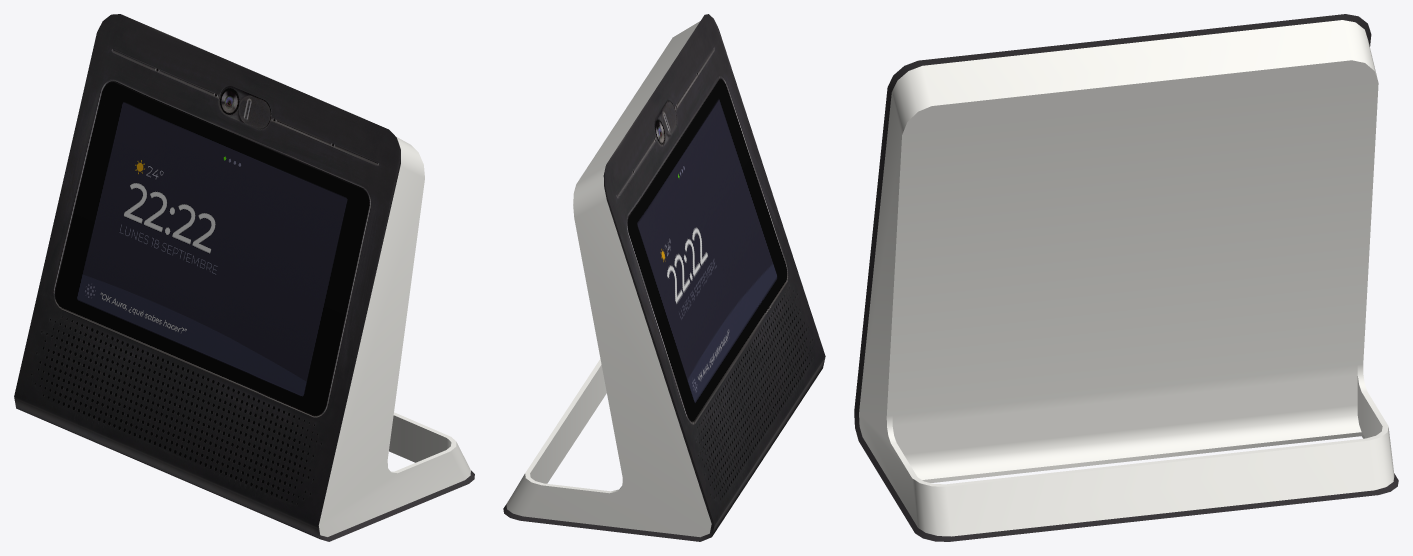
File: SM_Movistar_Home.fbx
3 views of the same model, side by side, from view 1: azimuth 30°, elevation 25°; view 2: azimuth 150°, elevation 25°; view 3: azimuth 270°, elevation 25° (orthographic). The views are drawn at different scales.
Parts seen in each view (by area): view 1: Movistar_Home; view 2: Movistar_Home; view 3: Movistar_Home.
Part boxes in pixels (x1=…): Movistar_Home: x1=14, y1=14, x2=474, y2=541; Movistar_Home: x1=503, y1=14, x2=825, y2=541; Movistar_Home: x1=854, y1=14, x2=1398, y2=541.
Size of the model in its own units: 21.02 by 26.11 by 30.06.
